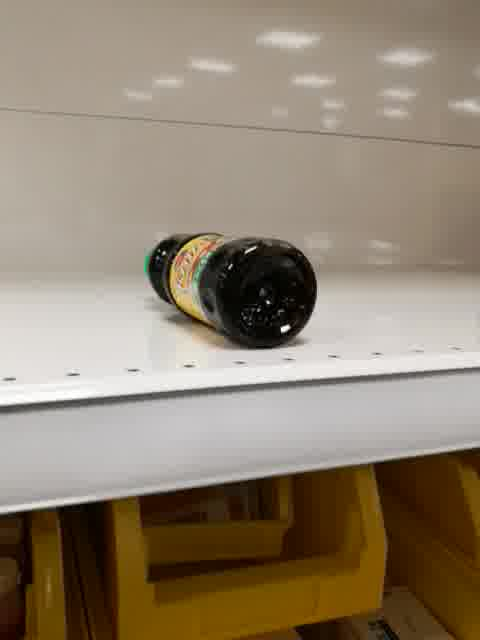cookingoil: (141, 229, 320, 354)
